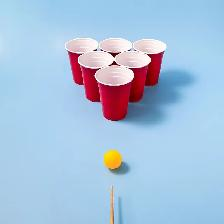YellowBall: (103, 149, 122, 168)
